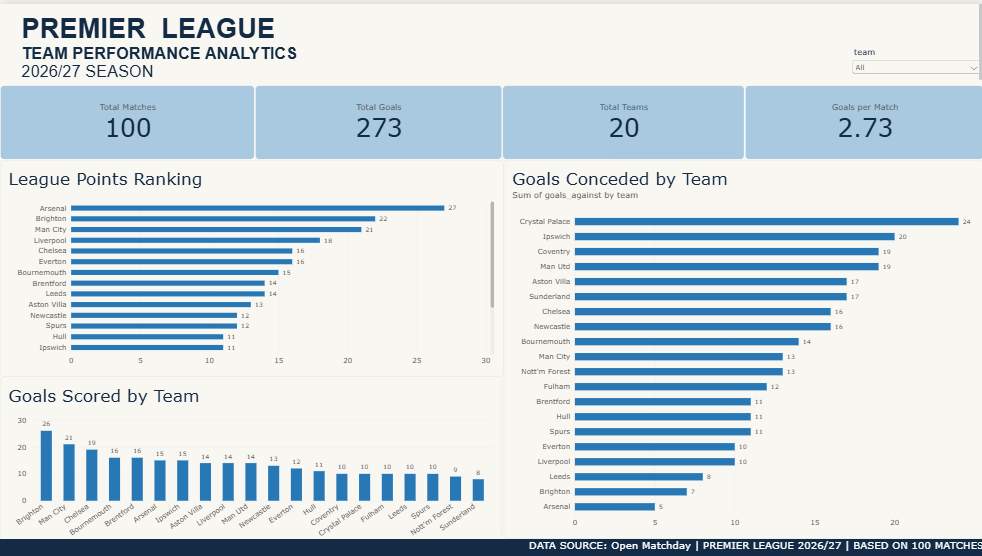

The page's visual inventory and layout, read from the dashboard file:
{"tool":"powerbi","page":{"name":"League Overview","canvas":[1920,1080],"ordinal":0},"visuals":[{"type":"cardVisual","fields":{"Data":["teamMatches.Total Teams"]},"box":[980,157.5,472.5,145],"z":0},{"type":"cardVisual","fields":{"Data":["teamMatches.Total Matches"]},"box":[0,157.5,497.5,145],"z":1000},{"type":"cardVisual","fields":{"Data":["teamMatches.Total Goals"]},"box":[497.5,157.5,482.5,145],"z":2000},{"type":"cardVisual","fields":{"Data":["teamMatches.Goals per Match"]},"box":[1452.5,157.5,467.5,145],"z":3000},{"type":"clusteredBarChart","title":"League Points Ranking","fields":{"Category":["teamMatches.team"],"Y":["Sum(teamMatches.points)"]},"box":[0,304,982,422],"z":4000},{"type":"clusteredColumnChart","title":"Goals Scored by Team","fields":{"Category":["teamMatches.team"],"Y":["Sum(teamMatches.goals_for)"]},"box":[0,727.3,979.5,352.3],"z":5000},{"type":"clusteredBarChart","title":"Goals Conceded by Team","fields":{"Category":["teamMatches.team"],"Y":["Sum(teamMatches.goals_against)"]},"box":[981.8,304.5,938.6,738.6],"z":6000},{"type":"textbox","title":"PREMIER  LEAGUE","box":[0,0,1920,157.5],"z":8000},{"type":"slicer","fields":{"Values":["teamMatches.team"]},"box":[1659.1,81.8,260,76.7],"z":8500},{"type":"textbox","title":"DATA SOURCE: Open Matchday | PREMIER LEAGUE 2026/27 | BASED ON 100 MATCHES","box":[0,1043.2,1920.5,36.4],"z":8501}]}

Visuals, with their boxes in screenshot pixels (x1, y1, x2, y2), scaled from the page's 1920x1080 canvas onto the 982x556 screenshot:
cardVisual - teamMatches.Total Teams: left=501, top=81, right=743, bottom=156
cardVisual - teamMatches.Total Matches: left=0, top=81, right=254, bottom=156
cardVisual - teamMatches.Total Goals: left=254, top=81, right=501, bottom=156
cardVisual - teamMatches.Goals per Match: left=743, top=81, right=981, bottom=156
"League Points Ranking" clusteredBarChart: left=0, top=157, right=502, bottom=374
"Goals Scored by Team" clusteredColumnChart: left=0, top=374, right=501, bottom=555
"Goals Conceded by Team" clusteredBarChart: left=502, top=157, right=981, bottom=537
"PREMIER  LEAGUE" textbox: left=0, top=0, right=981, bottom=81
slicer - teamMatches.team: left=849, top=42, right=981, bottom=82
"DATA SOURCE: Open Matchday | PREMIER LEAGUE 2026/27 | BASED ON 100 MATCHES" textbox: left=0, top=537, right=981, bottom=555
